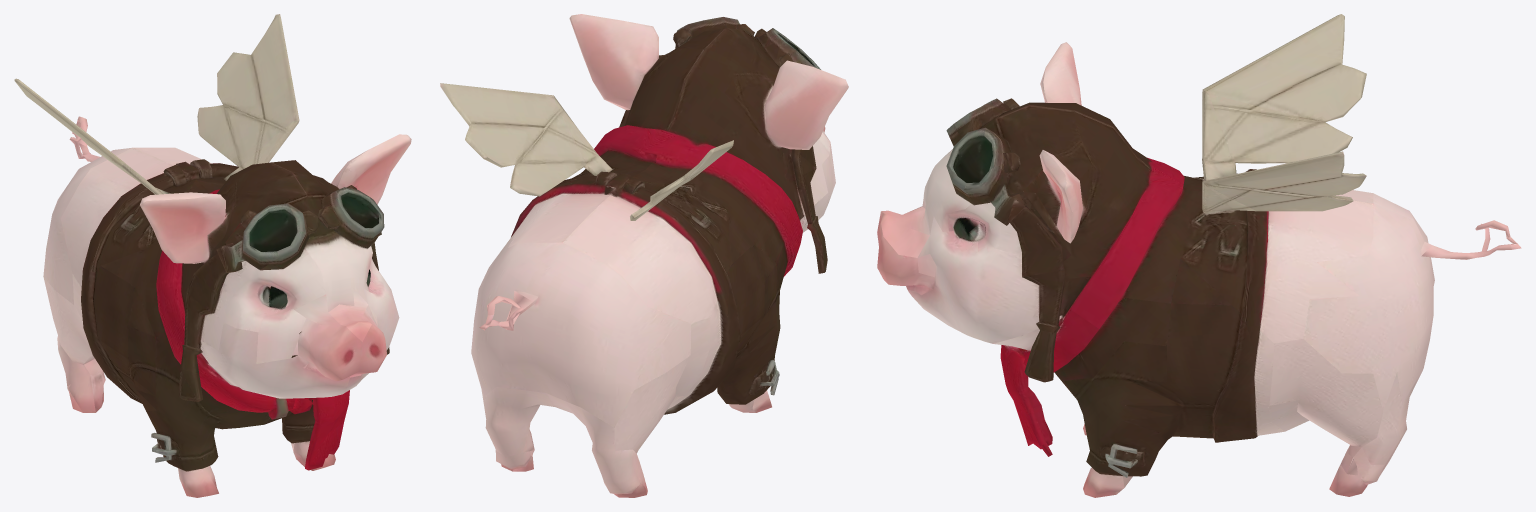
File: sean-four-legged-friend.glb
The picture shows the model from 3 angles, left to right: view 1: azimuth 30°, elevation 25°; view 2: azimuth 150°, elevation 25°; view 3: azimuth 270°, elevation 25°; orthographic projection. The views are drawn at different scales.
Parts seen in each view (by area): view 1: mesh_node; view 2: mesh_node; view 3: mesh_node.
Boxes of the visible parts, x1,y1,x2,y2 form: mesh_node: (14, 14, 411, 497); mesh_node: (440, 14, 848, 497); mesh_node: (877, 14, 1521, 497).
Bounding box in the file's own units: 0.5254 × 0.6445 × 1.
1 material, 1 textured.
